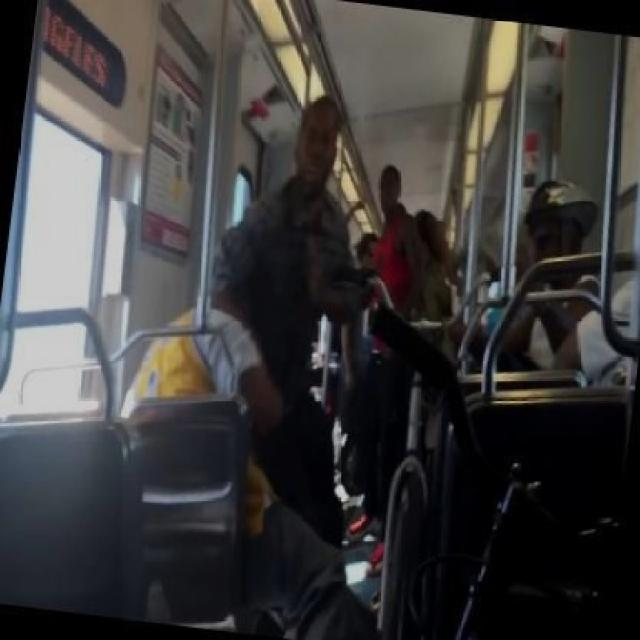fight: (111, 79, 405, 638)
